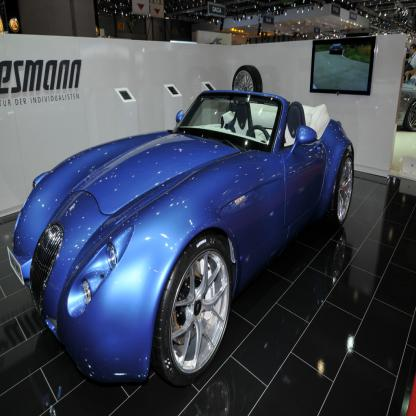Car: (7, 89, 354, 388), (397, 78, 416, 132)
